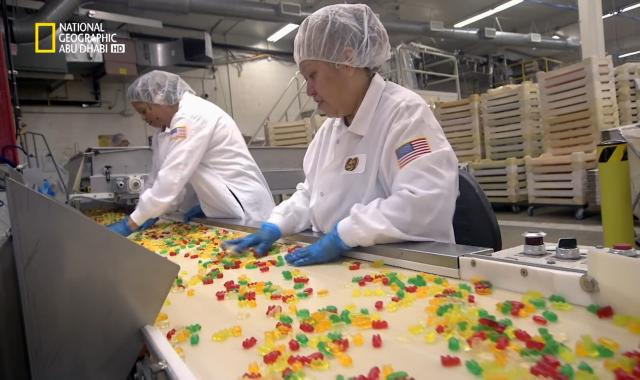hairnet: (290, 2, 395, 73), (137, 70, 196, 105)
